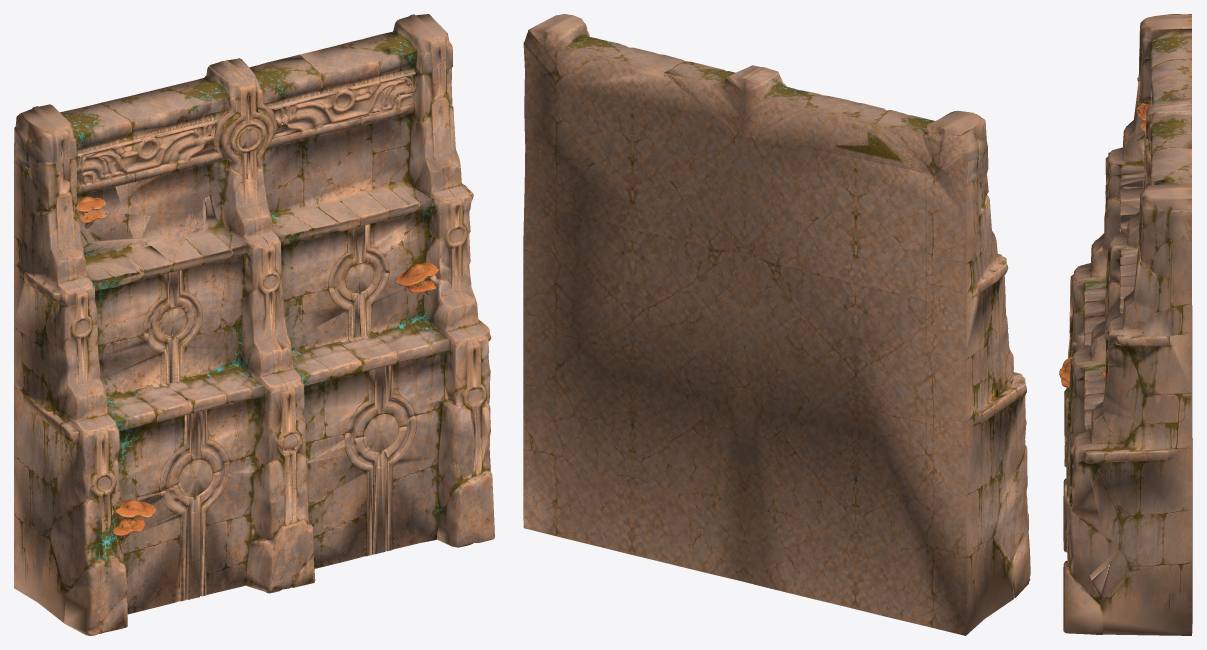
File: citadel_terrace.glb
The picture shows the model from 3 angles, left to right: view 1: azimuth 30°, elevation 25°; view 2: azimuth 150°, elevation 25°; view 3: azimuth 270°, elevation 25°; orthographic projection. The views are drawn at different scales.
Bounding box in the file's own units: 0.8901 × 0.9521 × 0.2622.
1 material, 1 textured.
